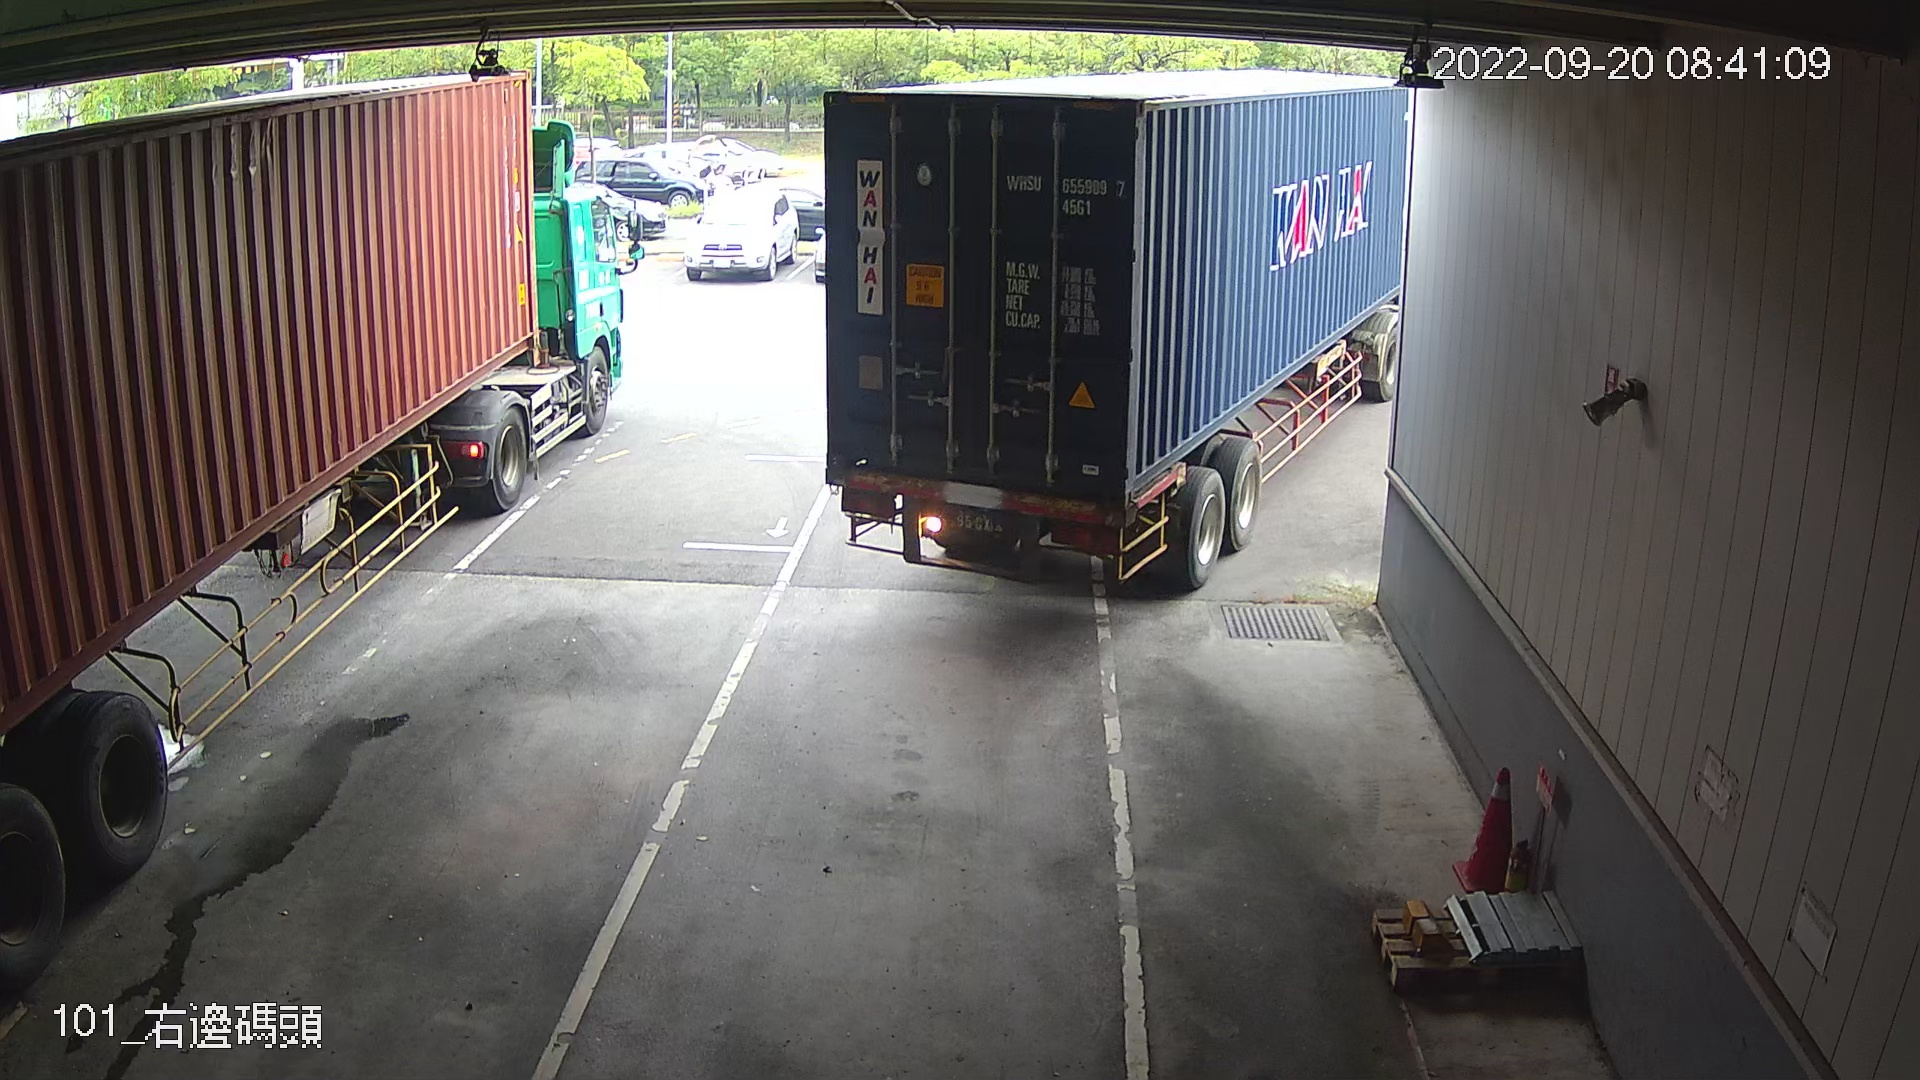container: (997, 164, 1131, 224)
